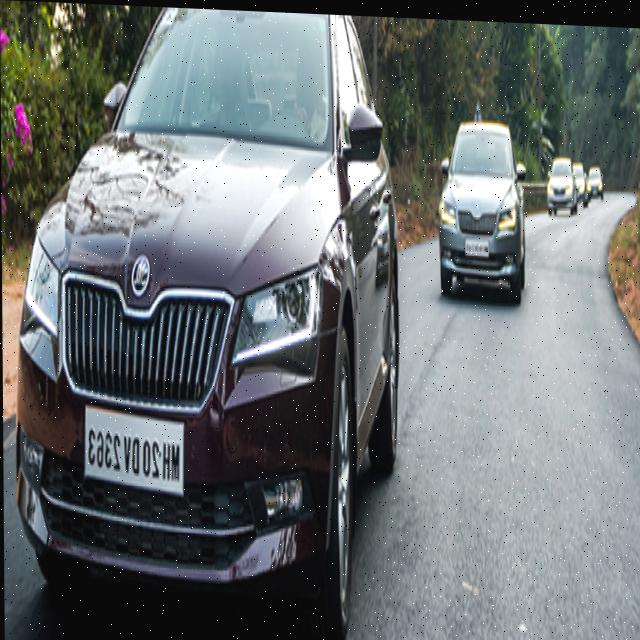plate: (80, 398, 187, 495), (464, 231, 490, 256)
